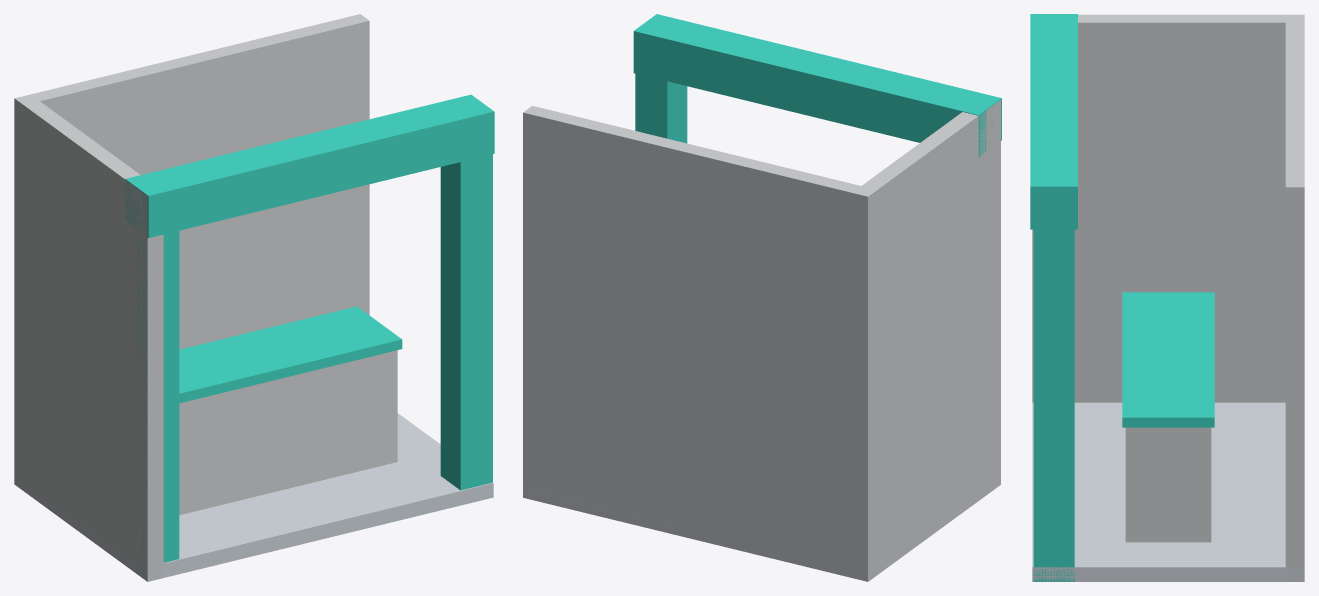
3 views of the same model, side by side, from view 1: azimuth 30°, elevation 25°; view 2: azimuth 150°, elevation 25°; view 3: azimuth 270°, elevation 25° (orthographic). The views are drawn at different scales.
Visible parts, largest first — view 1: Exhibition Booth Concept; view 2: Exhibition Booth Concept; view 3: Exhibition Booth Concept.
Boxes of the visible parts, x1,y1,x2,y2 form: Exhibition Booth Concept: (14,14,494,581); Exhibition Booth Concept: (523,14,1001,581); Exhibition Booth Concept: (1030,14,1304,581).
Size of the model in its own units: 3 by 3.2 by 2.01.
